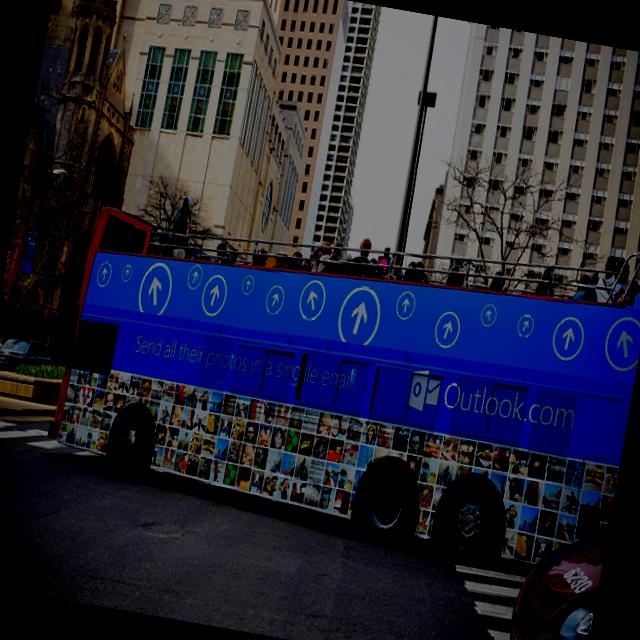Vehicle: (35, 171, 640, 584), (499, 506, 609, 640), (0, 329, 55, 396), (0, 331, 55, 395)
